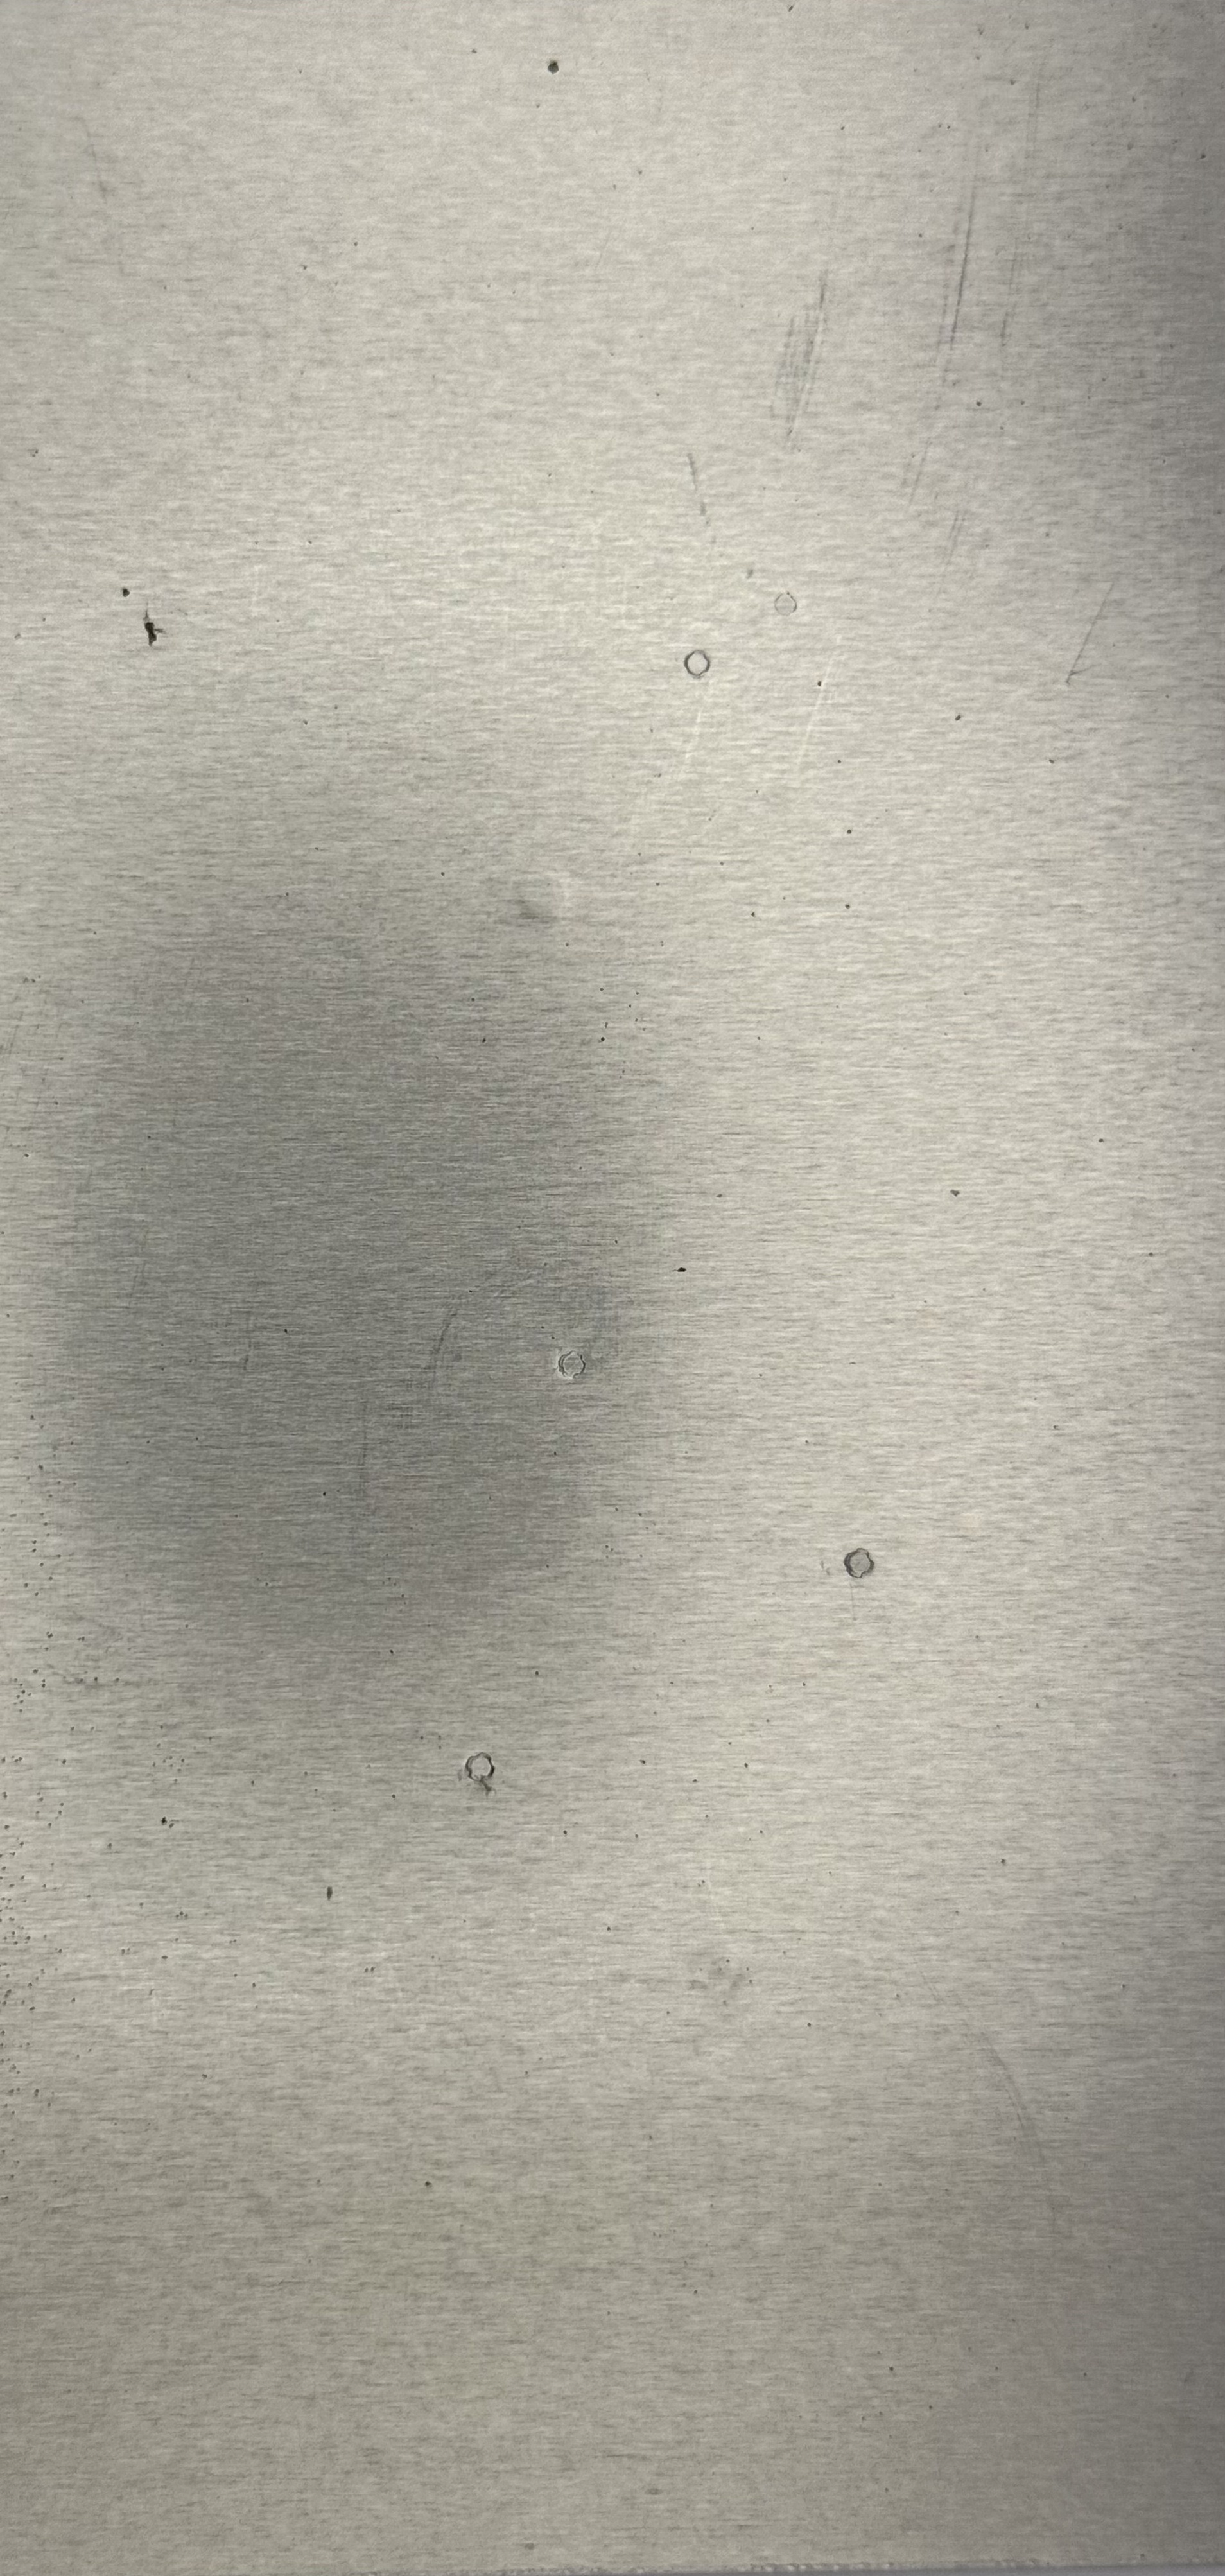Delle: (658, 1919, 798, 2034), (498, 846, 604, 941), (442, 1738, 522, 1814), (532, 1334, 619, 1400), (823, 1534, 900, 1600), (662, 642, 734, 695), (760, 577, 818, 631)
